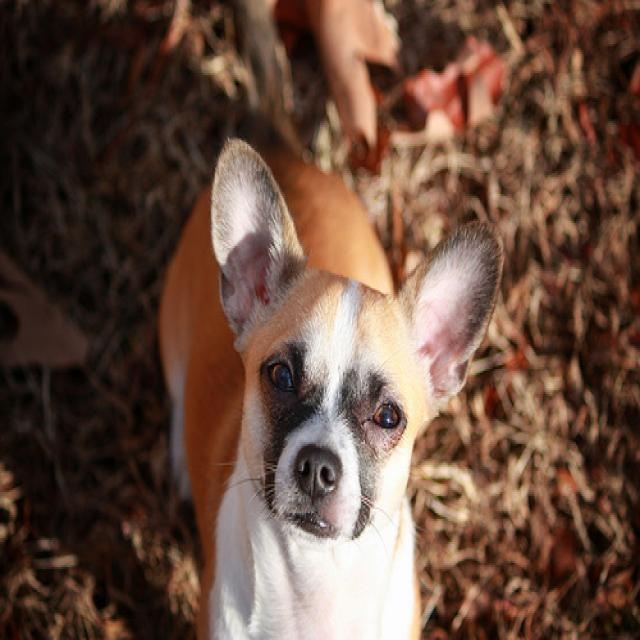dog-chihuahua: (146, 123, 508, 636)
